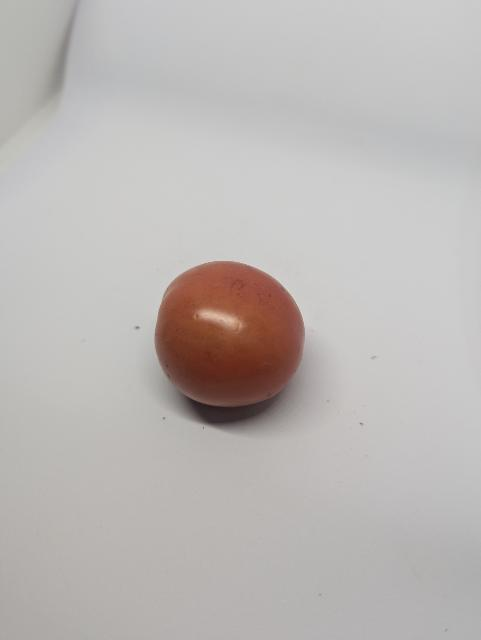red: (151, 255, 310, 422)
